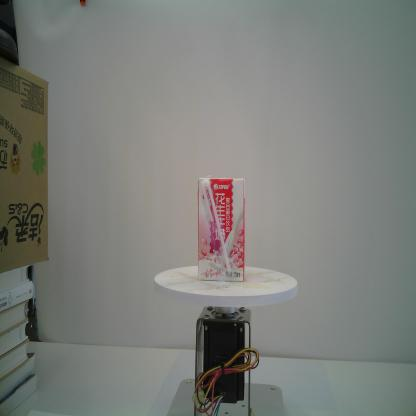Milk: (196, 175, 246, 284)
